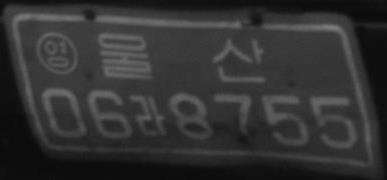0: (40, 86, 87, 139)
5: (260, 92, 310, 148), (310, 94, 357, 150)
6: (87, 87, 132, 140)
7: (213, 91, 254, 139)
8: (168, 91, 213, 140)
라: (132, 93, 167, 138)
영: (34, 31, 79, 76)
울산_D: (97, 32, 266, 83)
